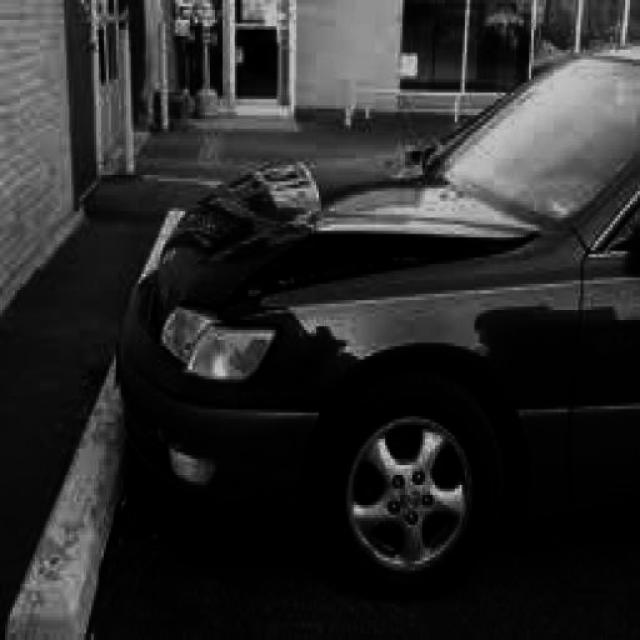car damage: (227, 231, 542, 308), (142, 223, 191, 332)
